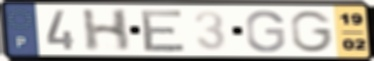3: (193, 9, 230, 53)
4: (45, 9, 76, 51)
E: (139, 8, 188, 53)
G: (289, 9, 336, 54), (243, 8, 287, 54)
H: (79, 7, 131, 53)
